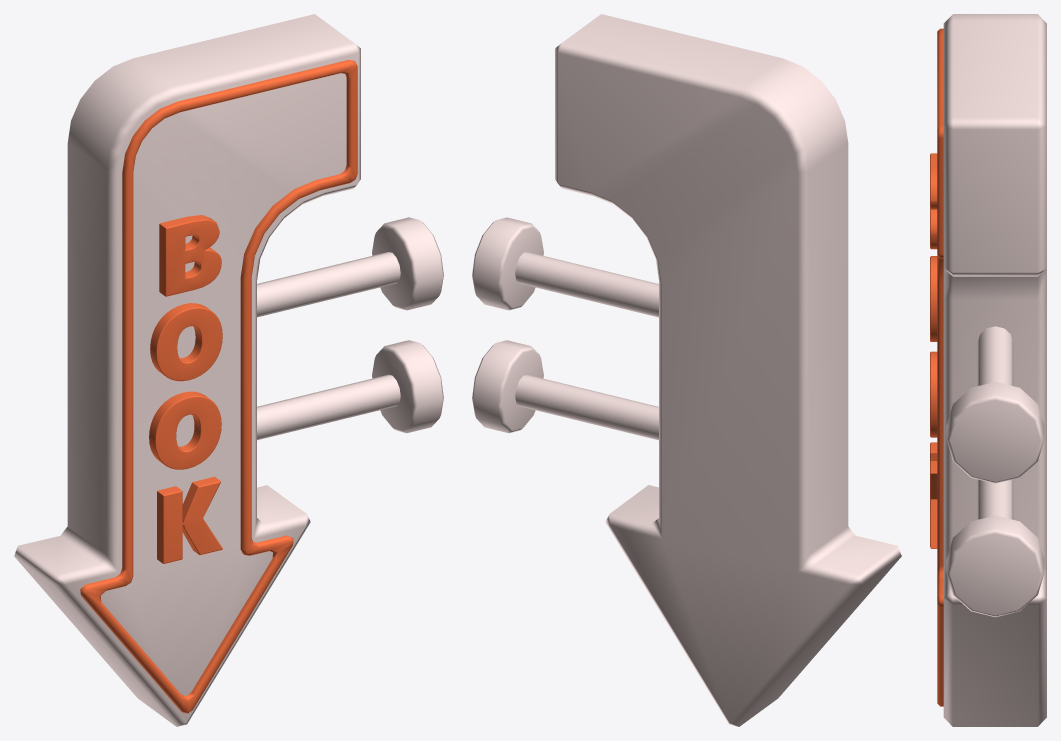
File: Store_7_Book_Shop_Sign_2.glb
The picture shows the model from 3 angles, left to right: view 1: azimuth 30°, elevation 25°; view 2: azimuth 150°, elevation 25°; view 3: azimuth 270°, elevation 25°; orthographic projection. The views are drawn at different scales.
Parts seen in each view (by area): view 1: Store_7_Book_Shop_Sign_2; view 2: Store_7_Book_Shop_Sign_2; view 3: Store_7_Book_Shop_Sign_2.
Boxes of the visible parts, box(x1,y1,x2,y2) form: Store_7_Book_Shop_Sign_2: box(14, 14, 443, 726); Store_7_Book_Shop_Sign_2: box(472, 14, 901, 726); Store_7_Book_Shop_Sign_2: box(930, 14, 1046, 726).
Bounding box in the file's own units: 1.38 × 2.18 × 0.3307.
1 material, 1 textured.
